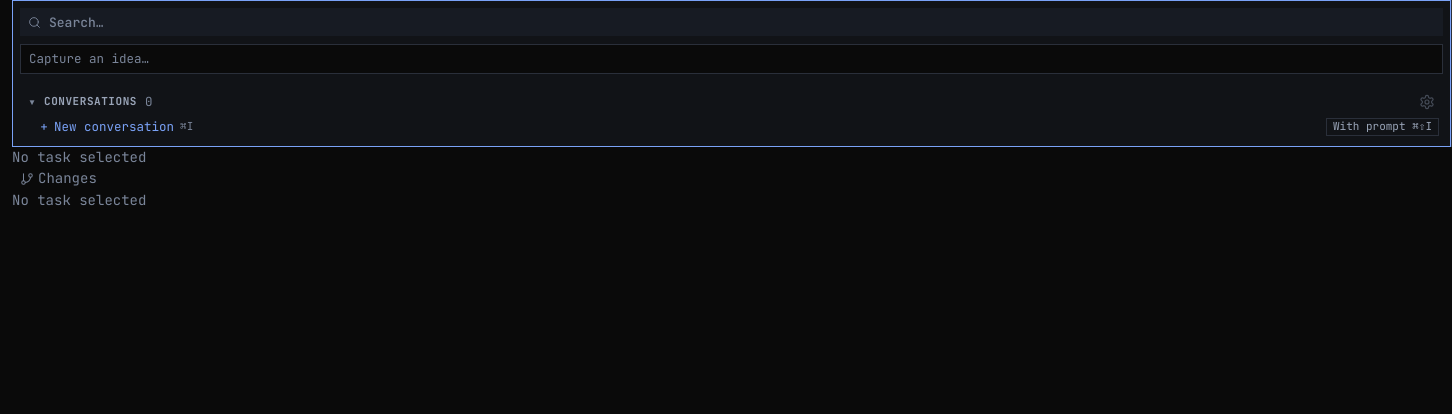
Test: overhaul acceptance - module Changes and current worktrees › [overhaul-335] keeps checkout feedback and Back usable while task changes load
Click the button with aria-label "Open module Changes" at (58, 179), box [12, 168, 105, 190]
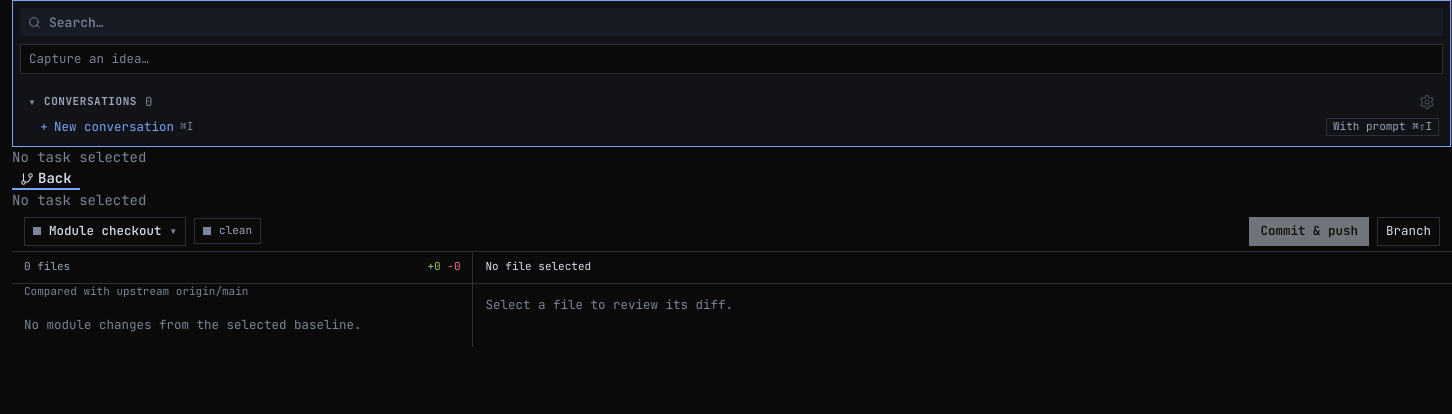
Click the button with aria-label "Choose checkout" at (105, 231), box [24, 217, 186, 246]
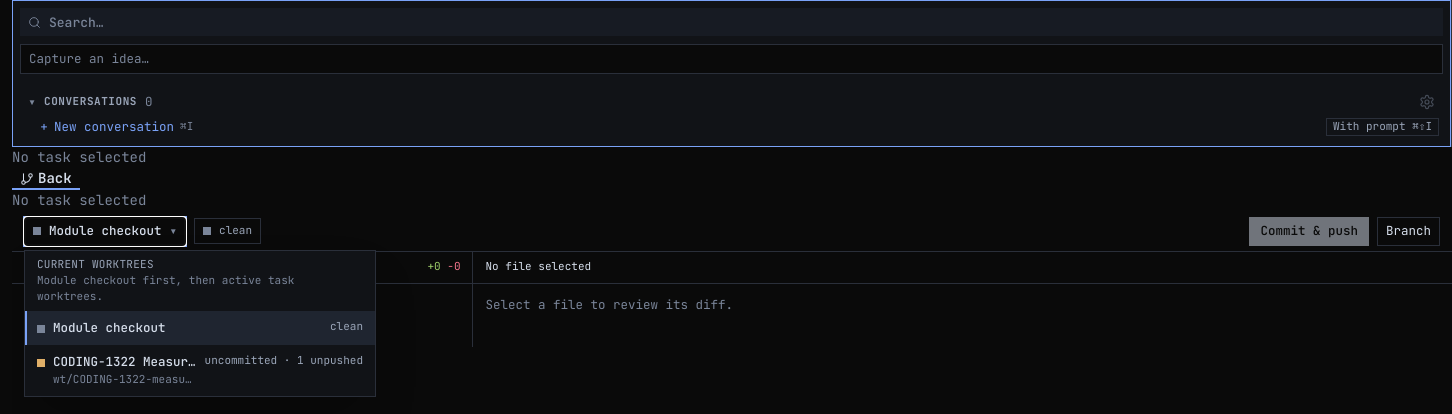
Now the element named "Worktree checkouts" is shown, box [24, 250, 376, 397]
Click the option with aria-label "Open CODING-1322 Measured checkout Changes" at (200, 371), box [25, 345, 375, 396]
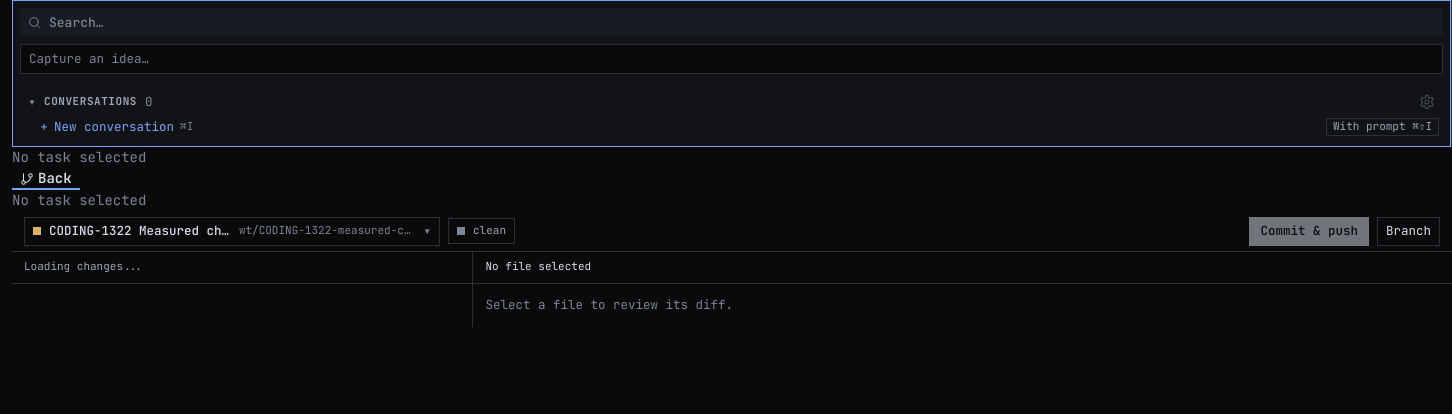
Click the button with aria-label "Choose checkout" at (232, 231), box [24, 217, 440, 246]
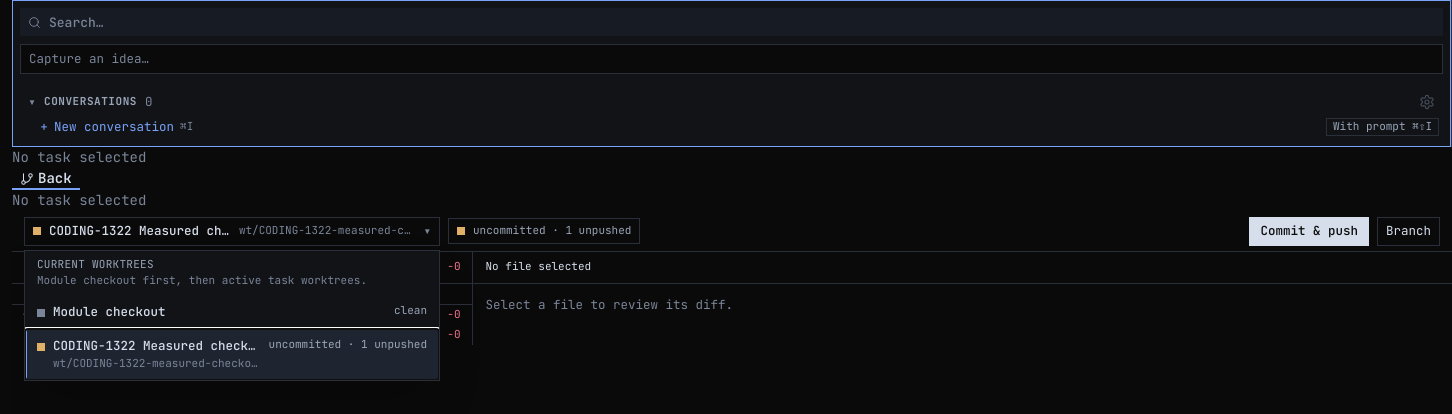
Now the text "Loading changes..." is shown, box [24, 259, 156, 275]
Now the element named "Worktree checkouts" is shown, box [24, 250, 440, 381]
Now the button with aria-label "studio/src/measured.ts" is shown, box [12, 325, 472, 345]
